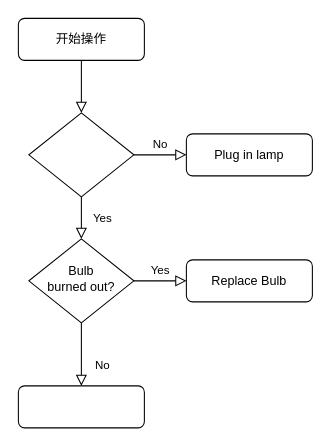
This 331x446 diagram has some shape labels left out. The shapes that lost their labels are listed below. From the top down, each one's centre as x and y in pixels, then its label:
At pixel 81 154: "Lamp plugged in?".
At pixel 80 406: "Repair Lamp".
